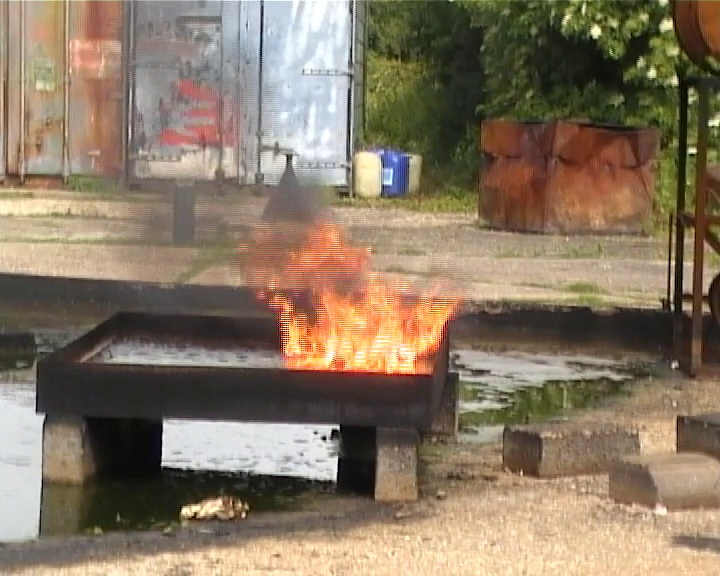fire: (258, 235, 445, 372)
